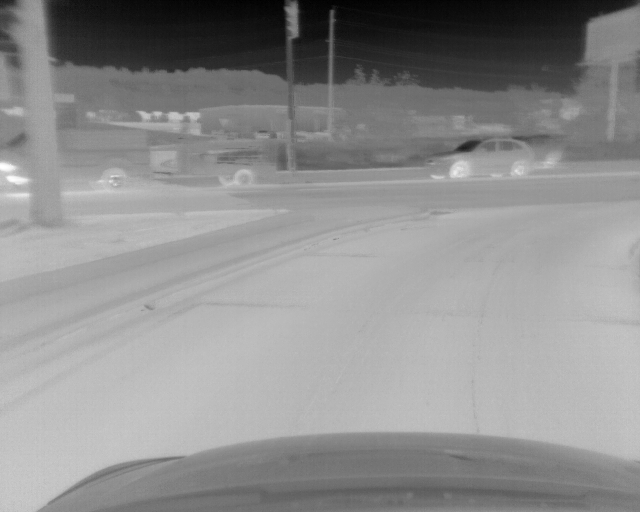car: (1, 124, 271, 189), (424, 137, 538, 181), (515, 135, 568, 165)
